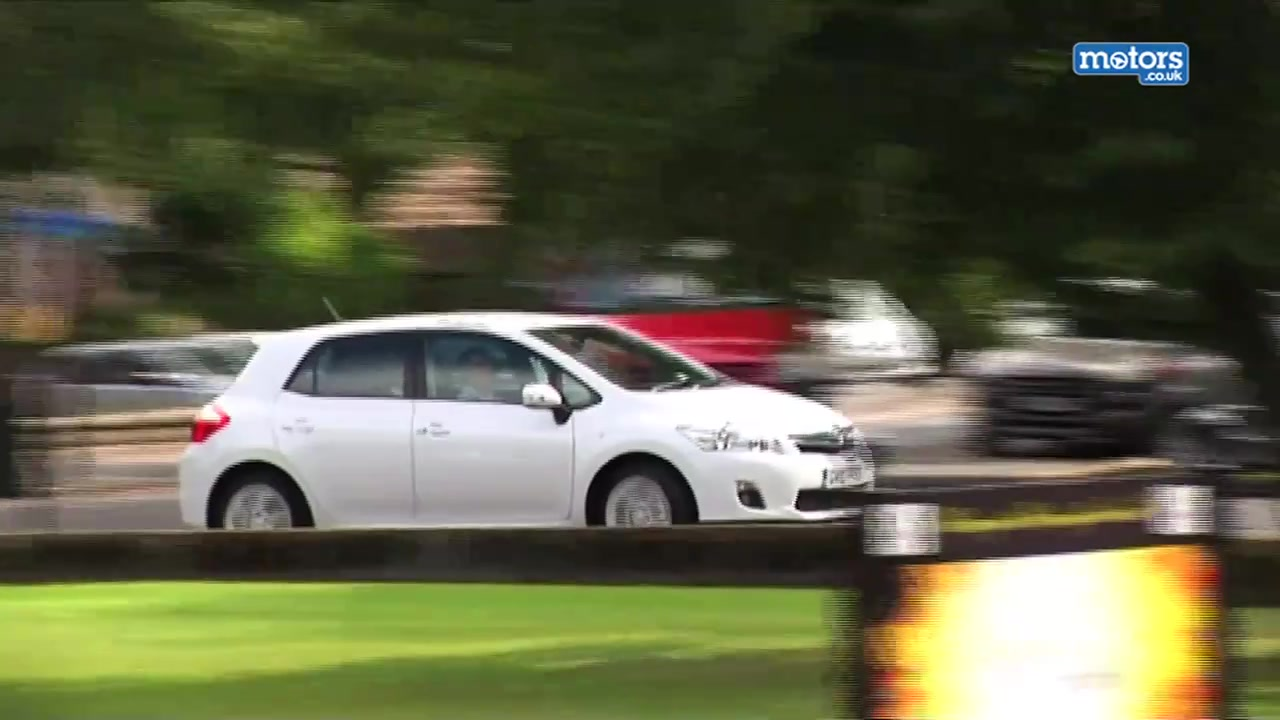car: (173, 309, 880, 534), (950, 266, 1258, 459), (26, 338, 245, 426)
